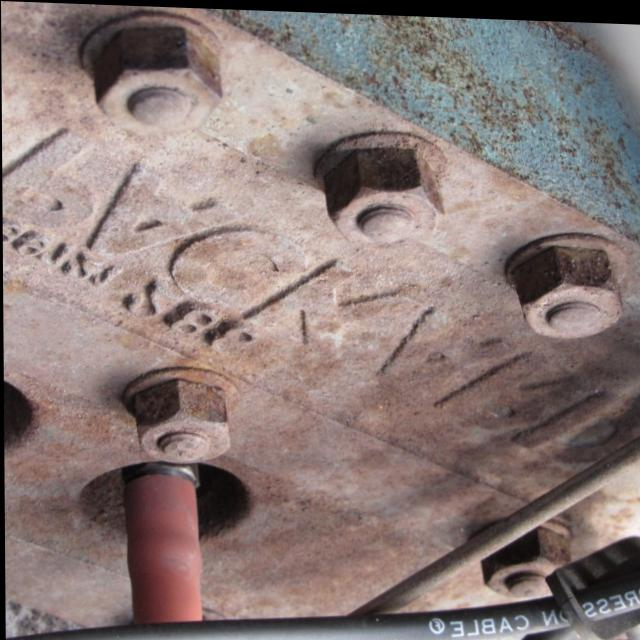Rusty bolt: (99, 22, 223, 137), (327, 139, 442, 246), (518, 235, 624, 335), (130, 374, 232, 465), (480, 508, 573, 596)
